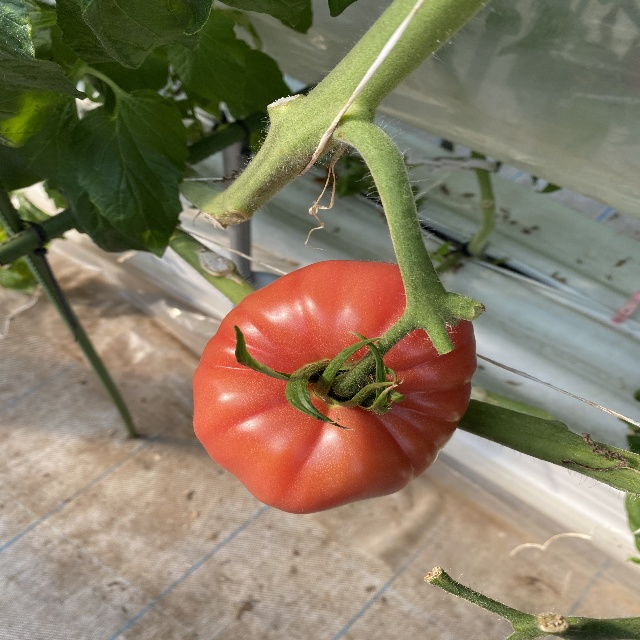b_fully_ripened: (193, 260, 477, 514)
